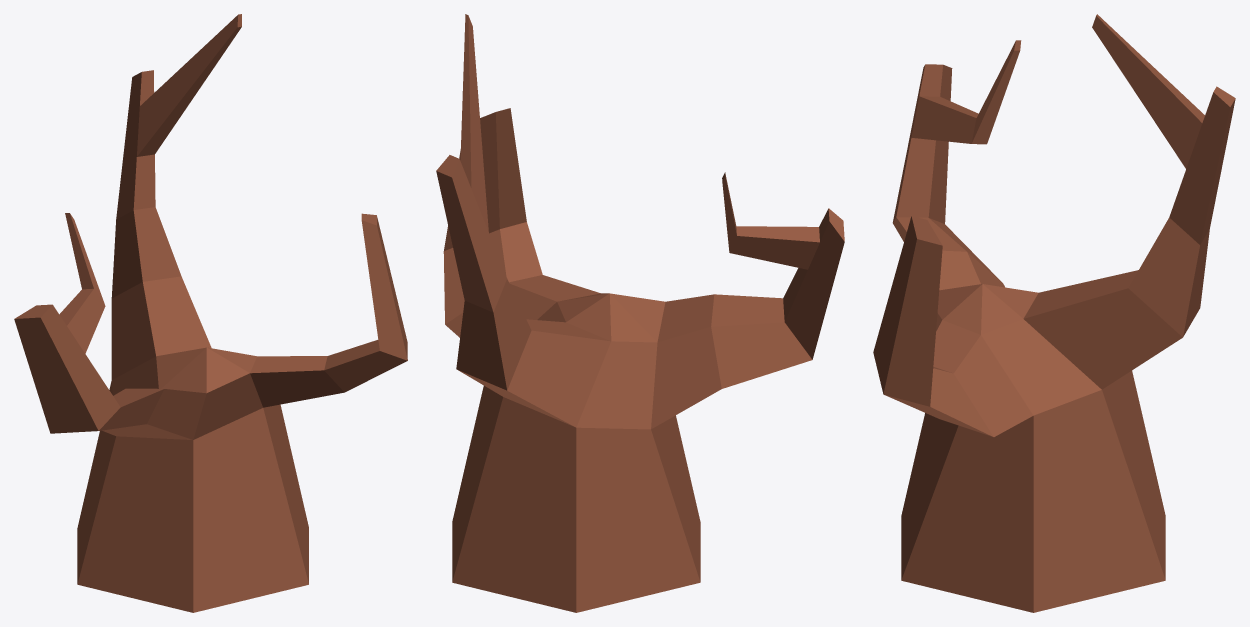
File: Bush_2_spring.fbx
3 renders of one model, left to right at view 1: azimuth 30°, elevation 25°; view 2: azimuth 150°, elevation 25°; view 3: azimuth 270°, elevation 25°, orthographic. The views are drawn at different scales.
Parts seen in each view (by area): view 1: Bush_2_spring; view 2: Bush_2_spring; view 3: Bush_2_spring.
Part boxes in pixels (<box>): Bush_2_spring: <box>14,14,407,612</box>; Bush_2_spring: <box>436,14,844,612</box>; Bush_2_spring: <box>873,14,1235,612</box>.
Size of the model in its own units: 23.52 by 29.51 by 16.86.
